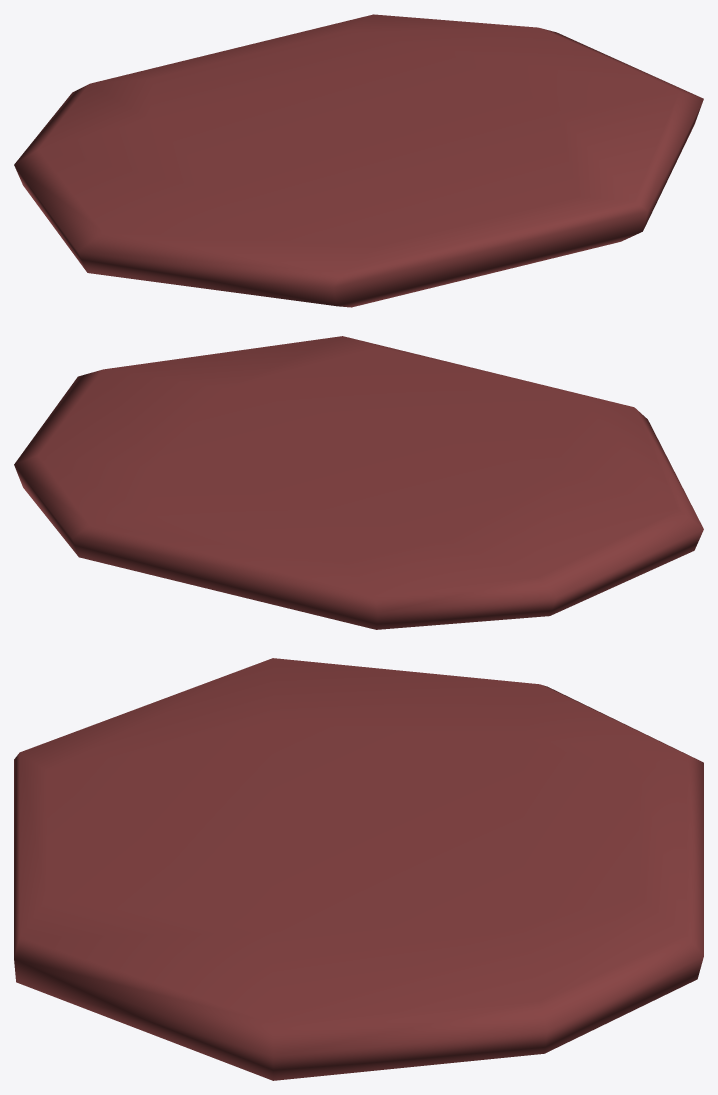
File: Platform red.fbx
3 renders of one model, top to bottom at view 1: azimuth 30°, elevation 25°; view 2: azimuth 150°, elevation 25°; view 3: azimuth 270°, elevation 25°, orthographic. The views are drawn at different scales.
Visible parts, largest first — view 1: pCube60; view 2: pCube60; view 3: pCube60.
Part boxes in pixels (bbox=[...]): pCube60: bbox=[14, 14, 703, 307]; pCube60: bbox=[14, 336, 703, 629]; pCube60: bbox=[14, 658, 703, 1080].
Size of the model in its own units: 33.18 by 3.19 by 24.38.
